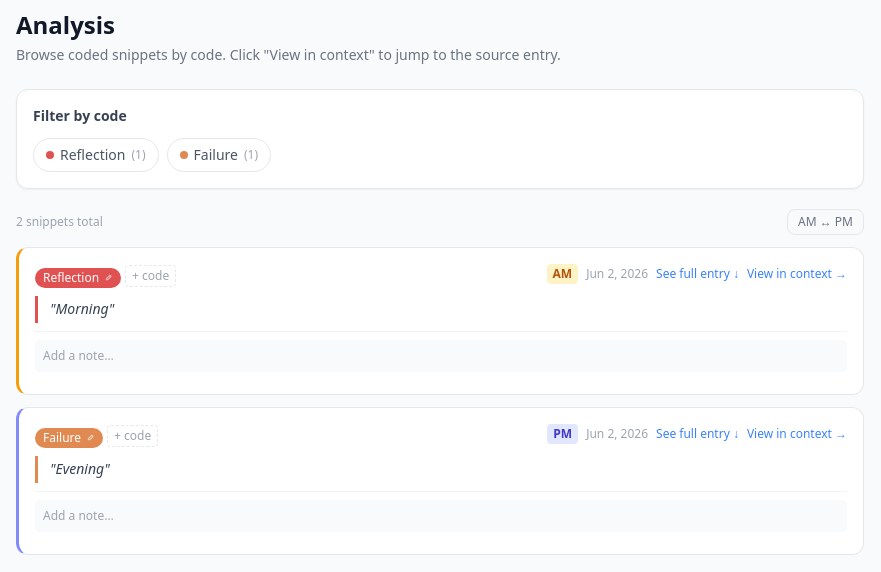
Test: AnalysisView – AM ↔ PM compare mode › enables compare mode when the AM ↔ PM button is clicked
Click the button "AM ↔ PM" at (826, 222), box [787,209,864,235]
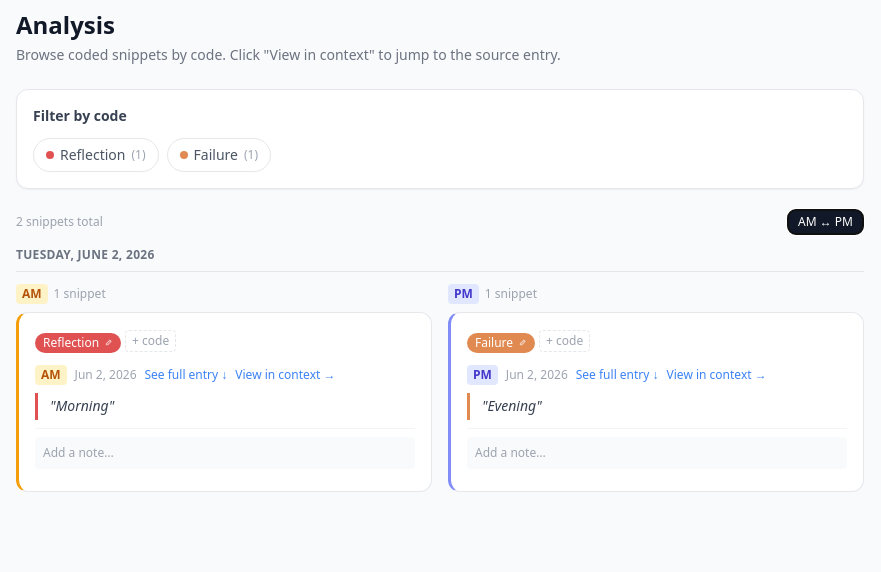
Expected: the heading "Tuesday, June 2, 2026" is shown, [16,247,864,272]
